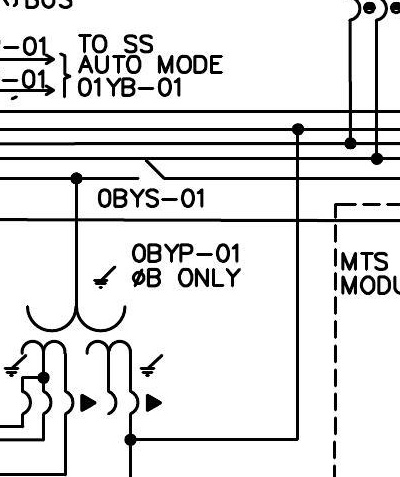115_ds: (135, 160, 165, 181)
115_vt_1p: (2, 264, 164, 416)
